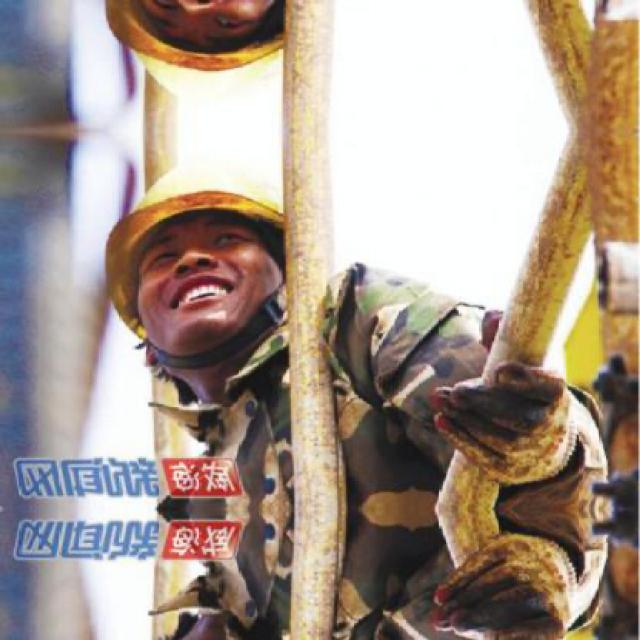helmet: (94, 145, 309, 378), (93, 0, 310, 119)
